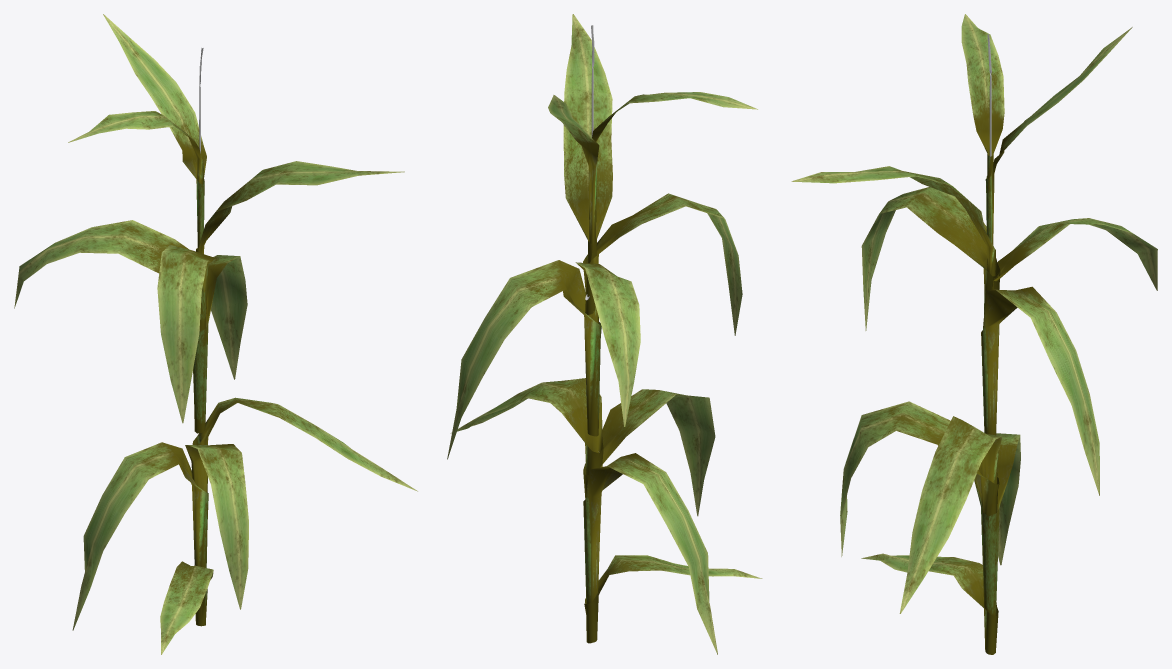
File: PorumbStage2.fbx
3 renders of one model, left to right at view 1: azimuth 30°, elevation 25°; view 2: azimuth 150°, elevation 25°; view 3: azimuth 270°, elevation 25°, orthographic. The views are drawn at different scales.
Visible parts, largest first — view 1: SM_Plant_02; view 2: SM_Plant_02; view 3: SM_Plant_02.
Boxes of the visible parts, x1=… form: SM_Plant_02: x1=14, y1=14, x2=417, y2=654; SM_Plant_02: x1=447, y1=14, x2=762, y2=654; SM_Plant_02: x1=791, y1=14, x2=1157, y2=654.
Size of the model in its own units: 59.41 by 55.12 by 103.
